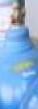cylinder: (0, 1, 38, 109)
